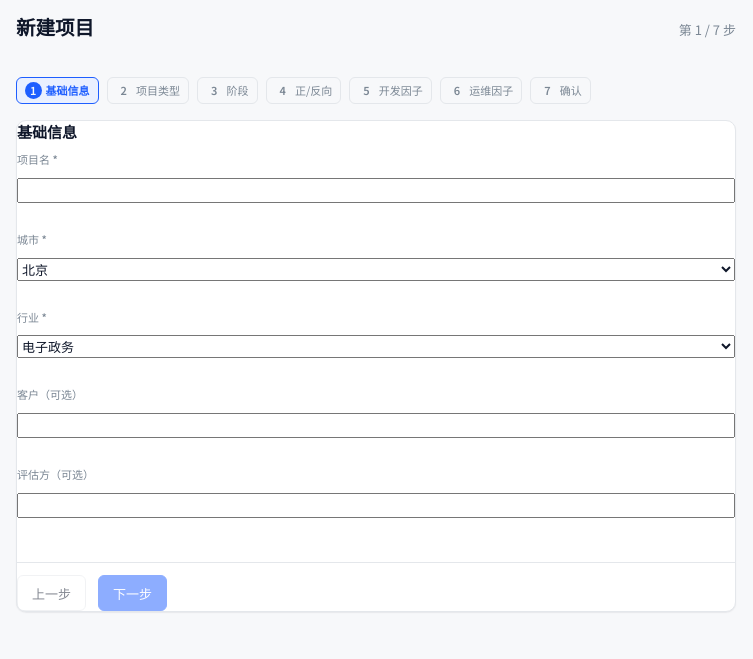
Test: Wizard step 4 — mode + target_total (T16) › reverse + target_total>0 时下一步按钮启用
Type "项目甲" into the field named "name" at [376, 191], box [17, 178, 735, 203]
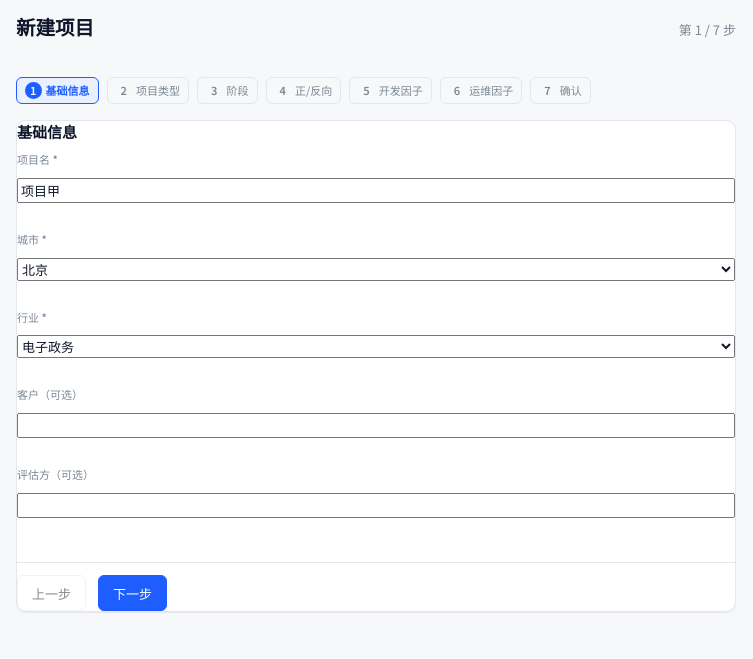
Click the button with test id "wizard-next" at [132, 593], box [98, 575, 167, 611]
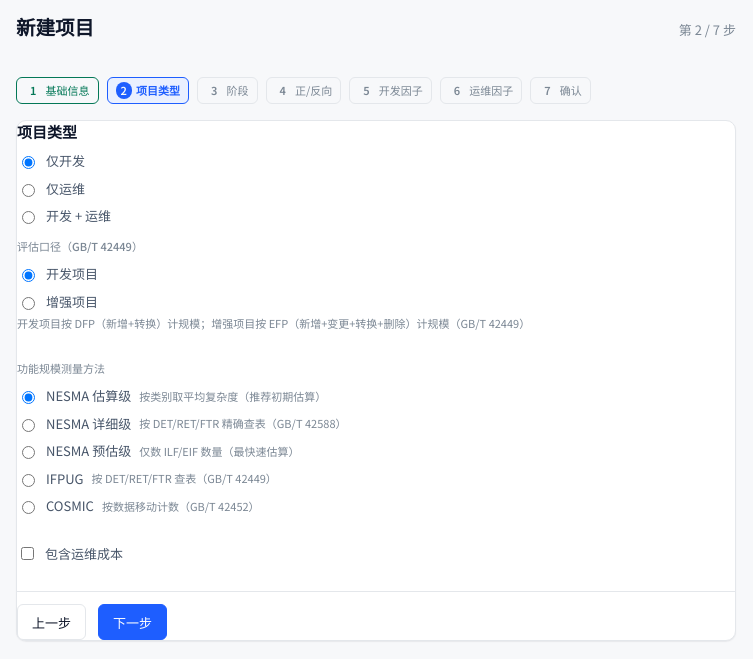
Click the button with test id "wizard-next" at [132, 622], box [98, 604, 167, 640]
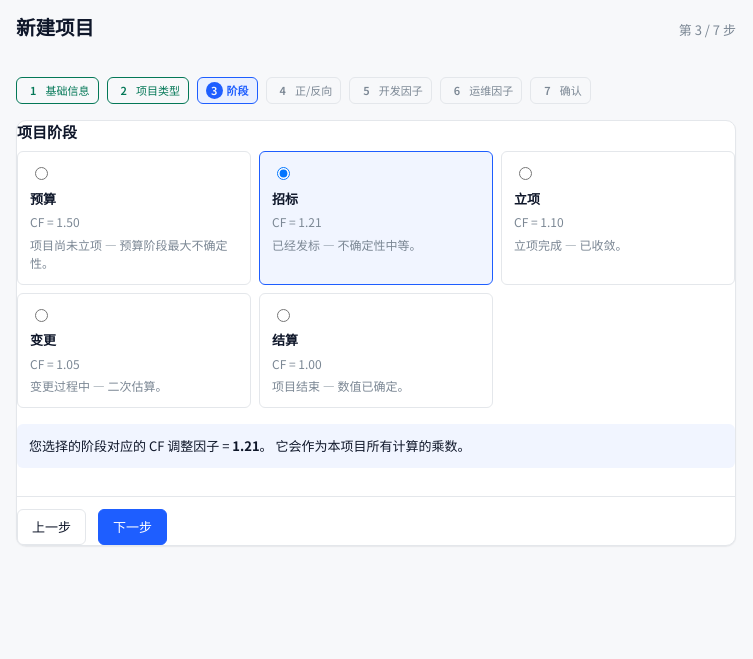
Click the button with test id "wizard-next" at [132, 527], box [98, 509, 167, 545]
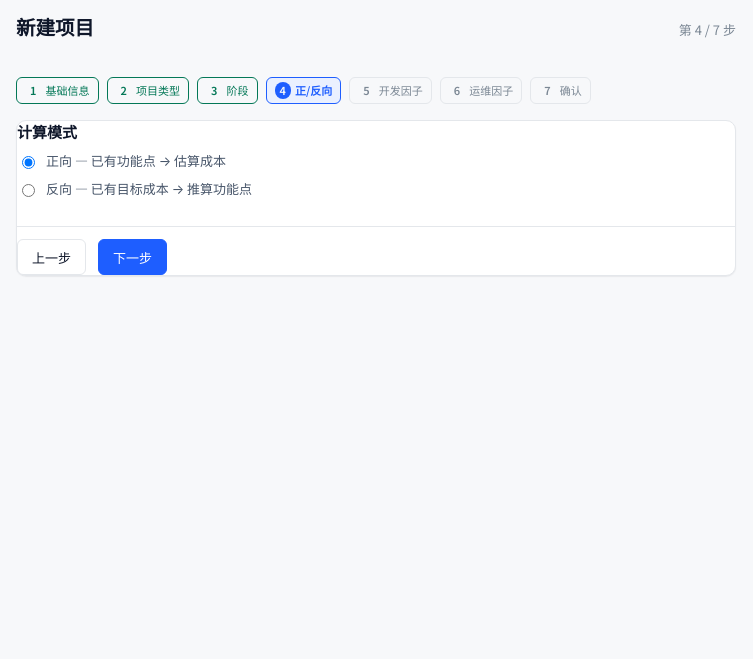
Click the radio button named "mode" at [28, 190], box [22, 184, 35, 196]
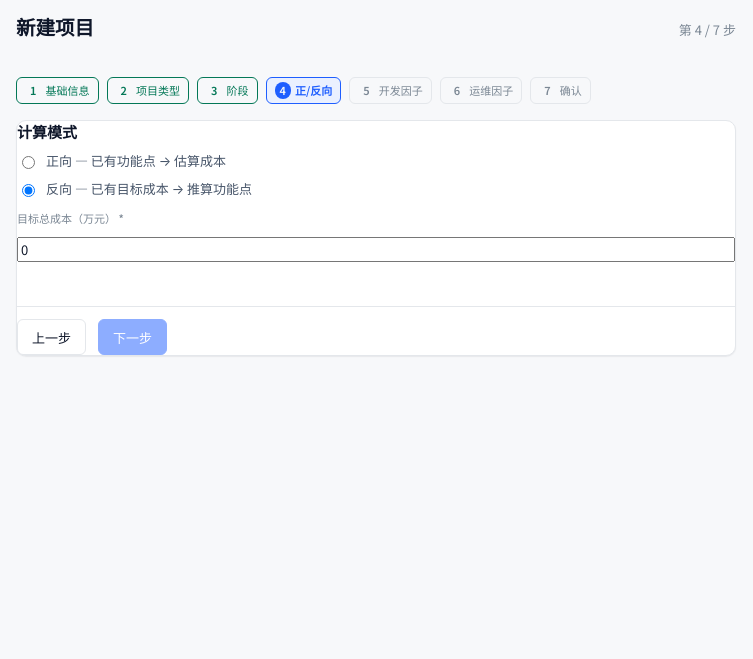
Replace the text in the number field named "target_total" with "10000" at [376, 250], box [17, 237, 735, 262]
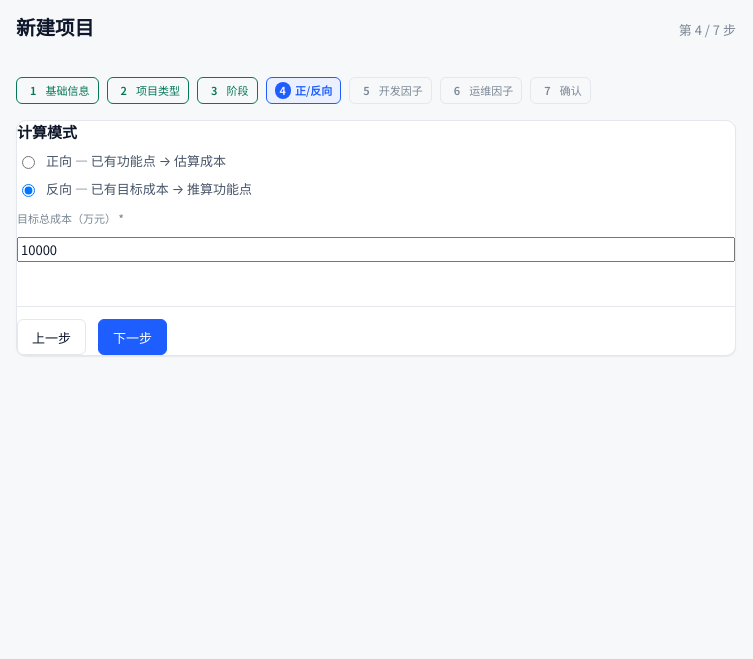
Now the button with test id "wizard-next" is enabled, box [98, 319, 167, 355]
